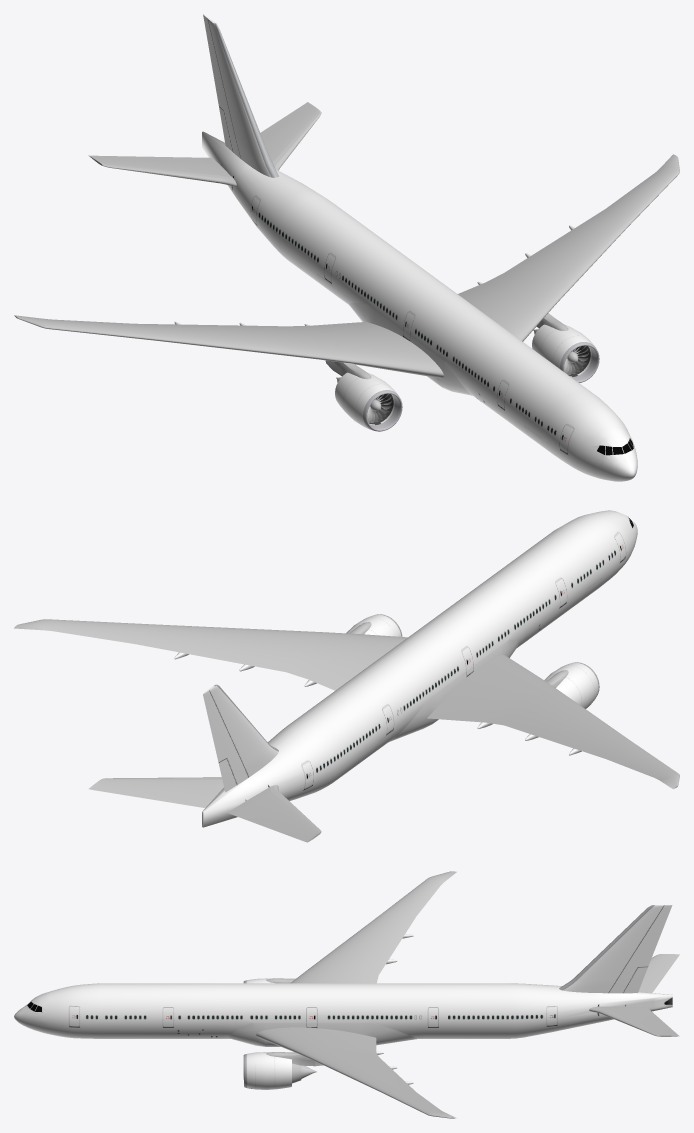
Rendered from Boeing777-300ER.fbx.
The picture shows the model from 3 angles, top to bottom: view 1: azimuth 30°, elevation 25°; view 2: azimuth 150°, elevation 25°; view 3: azimuth 270°, elevation 25°; orthographic projection. The views are drawn at different scales.
Parts seen in each view (by area): view 1: 777-300ER United, NurbsPath.011, Circle.016, BezierCircle.022, BezierCircle.021, Circle.015; view 2: 777-300ER United, NurbsPath.011, BezierCircle.022, BezierCircle.021, Circle.016; view 3: 777-300ER United, NurbsPath.011, BezierCircle.021, BezierCircle.022, Circle.016, Circle.015.
Boxes of the visible parts, x1,y1,x2,y2 form: 777-300ER United: (202, 131, 637, 481); NurbsPath.011: (14, 154, 679, 378); Circle.016: (335, 324, 599, 431); BezierCircle.022: (88, 102, 321, 187); BezierCircle.021: (203, 14, 278, 177); Circle.015: (325, 313, 568, 382); 777-300ER United: (202, 510, 637, 827); NurbsPath.011: (14, 619, 679, 789); BezierCircle.022: (89, 777, 321, 842); BezierCircle.021: (203, 684, 278, 792); Circle.016: (346, 614, 599, 708); 777-300ER United: (14, 983, 672, 1046); NurbsPath.011: (256, 871, 456, 1118); BezierCircle.021: (559, 905, 672, 993); BezierCircle.022: (589, 954, 679, 1036); Circle.016: (243, 978, 291, 1089); Circle.015: (266, 978, 323, 1083).
Bounding box in the file's own units: 6492 × 1798 × 7412.
